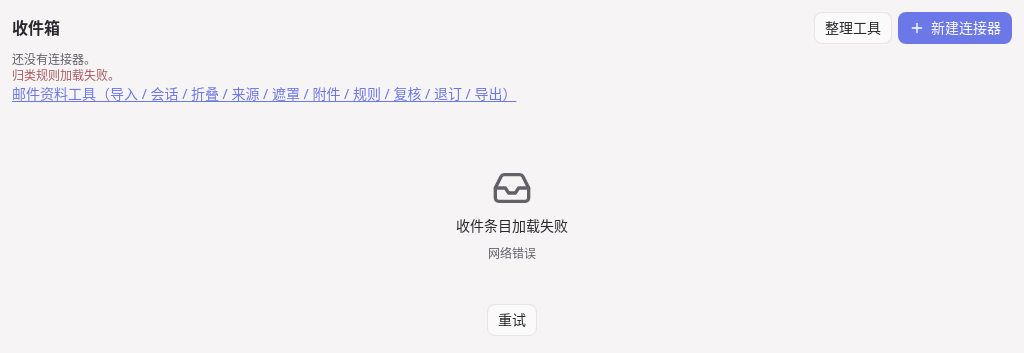
it: InboxPage states › renders error state with retry and refetches on click
The image size is (1024, 353).
expect the message "归类规则加载失败。" is shown: met, box [12, 67, 120, 84]
Click the button "重试" at (512, 320), box [487, 304, 537, 336]
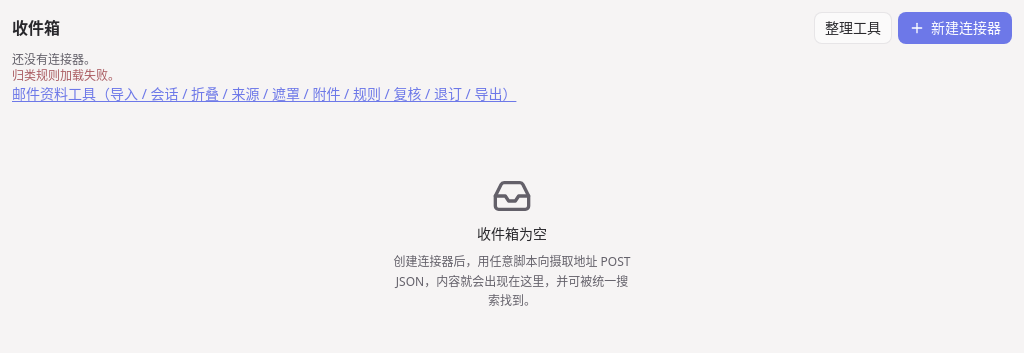
expect the text "收件箱为空" is shown: met, box [477, 224, 547, 244]
